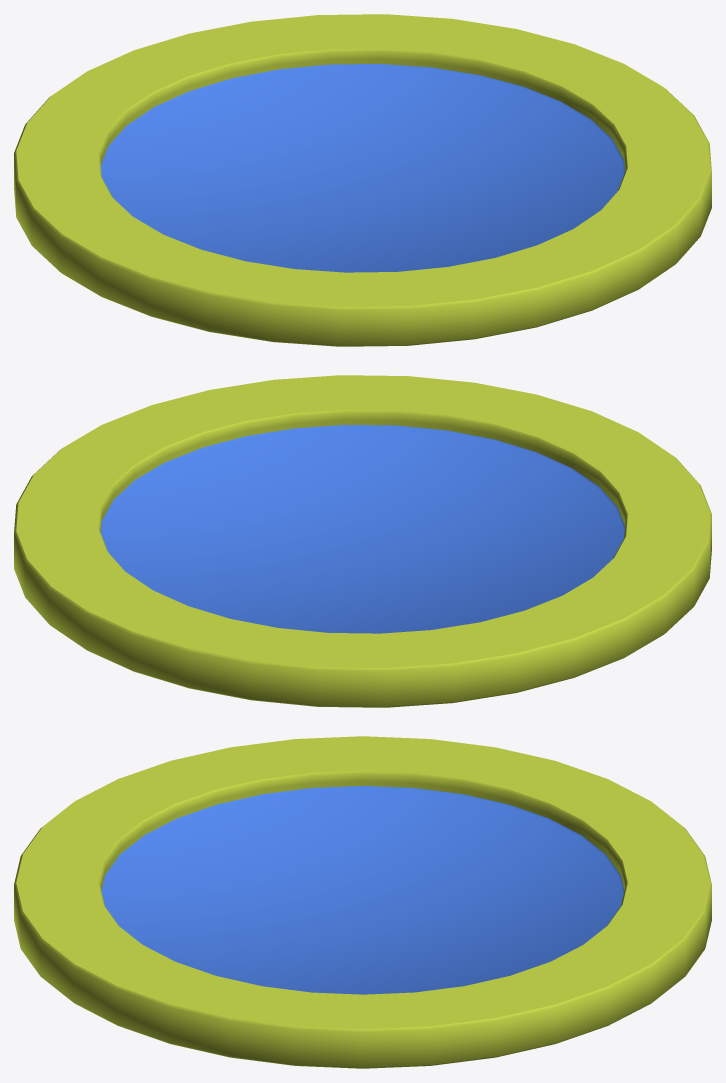
Rendered from Token_low.fbx.
3 views of the same model, one above another, from view 1: azimuth 30°, elevation 25°; view 2: azimuth 150°, elevation 25°; view 3: azimuth 270°, elevation 25° (orthographic).
Parts seen in each view (by area): view 1: Token_low001; view 2: Token_low001; view 3: Token_low001.
Part boxes in pixels (x1,y1,x2,y2): Token_low001: (14,14,711,346); Token_low001: (14,375,711,707); Token_low001: (14,736,711,1068).
Size of the model in its own units: 80 by 5 by 80.
